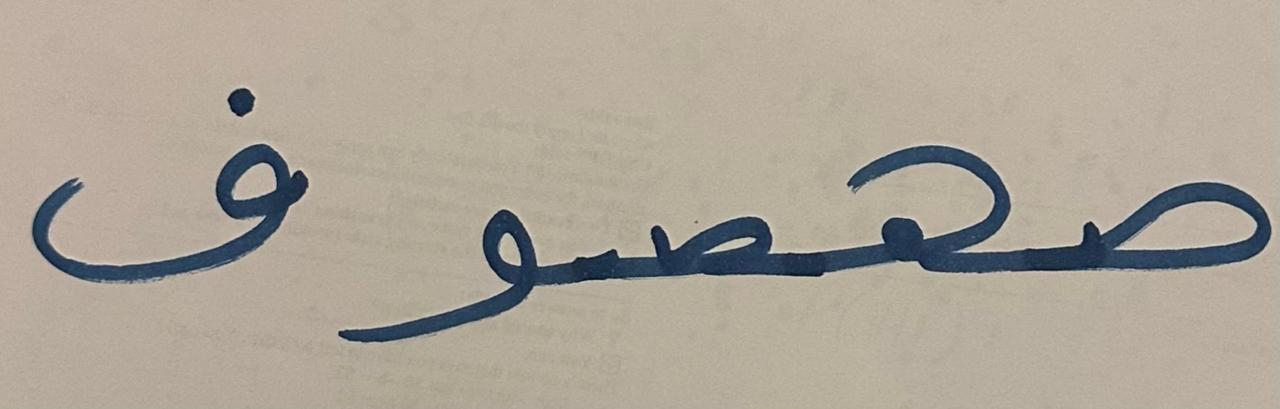feh: (13, 68, 322, 340)
jeem: (827, 48, 1029, 319)
seen: (1033, 103, 1276, 309), (588, 129, 821, 314)
yeh: (327, 162, 585, 371)
